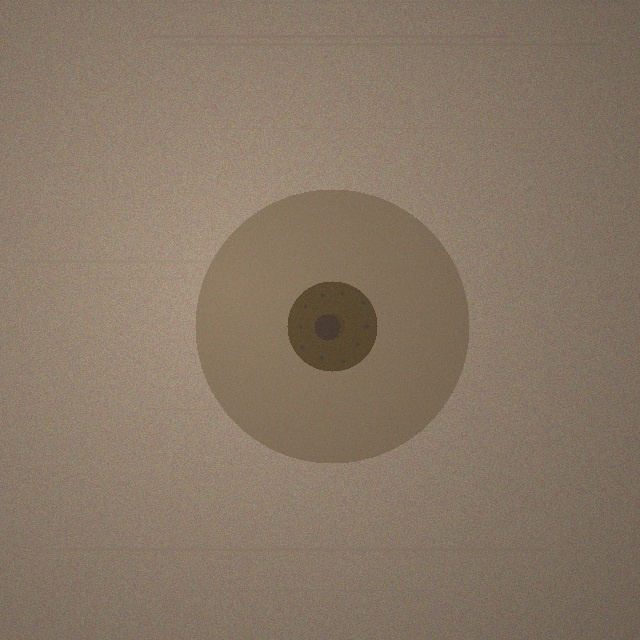cold_weld: (195, 189, 469, 463)
